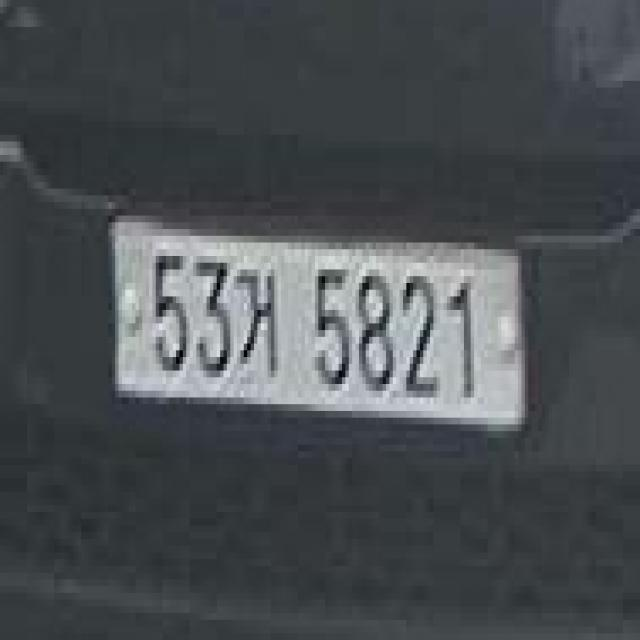1: (447, 256, 484, 404)
2: (393, 263, 440, 404)
3: (193, 242, 234, 390)
5: (149, 236, 193, 370), (315, 256, 352, 391)
8: (356, 263, 396, 397)
geo: (230, 256, 278, 377)
license_plate: (105, 202, 528, 438)
